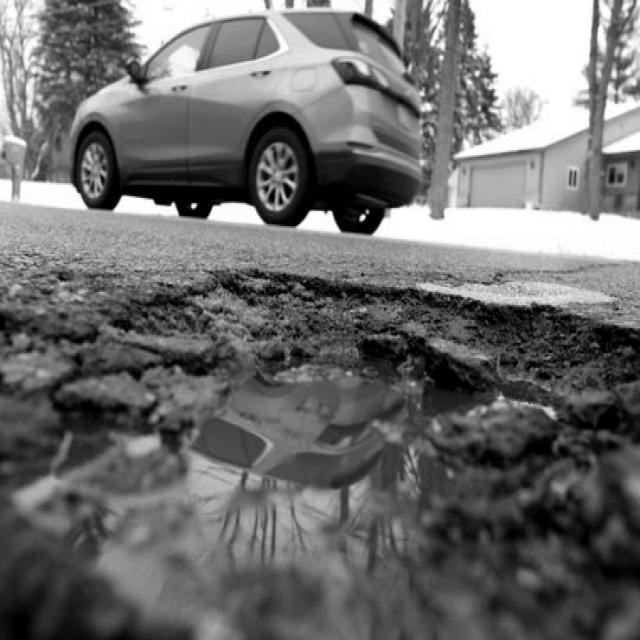pathole: (0, 211, 622, 640)
